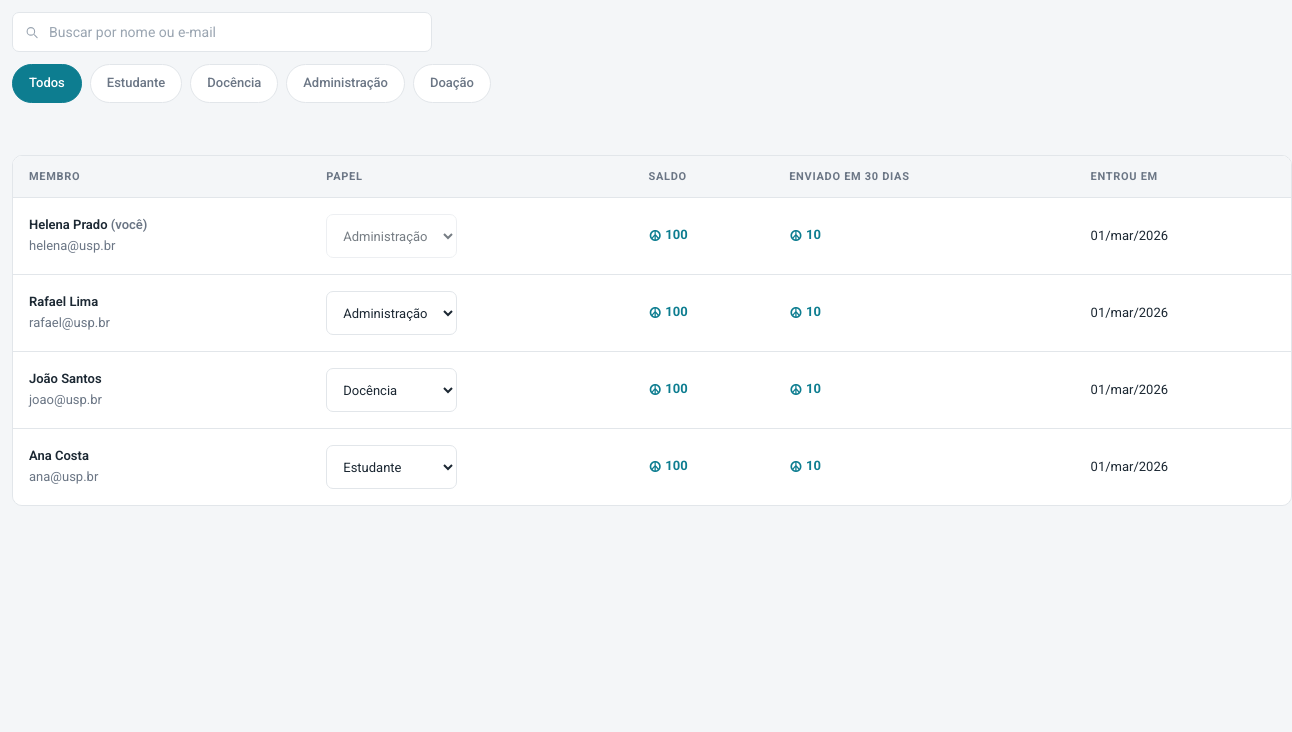
Test: UserRoleManager › finds a member by name without accents
This screenshot has width=1292, height=732.
In the search field labelled "Buscar por nome ou e-mail": (222,32) [12,12,432,52], type "joao"
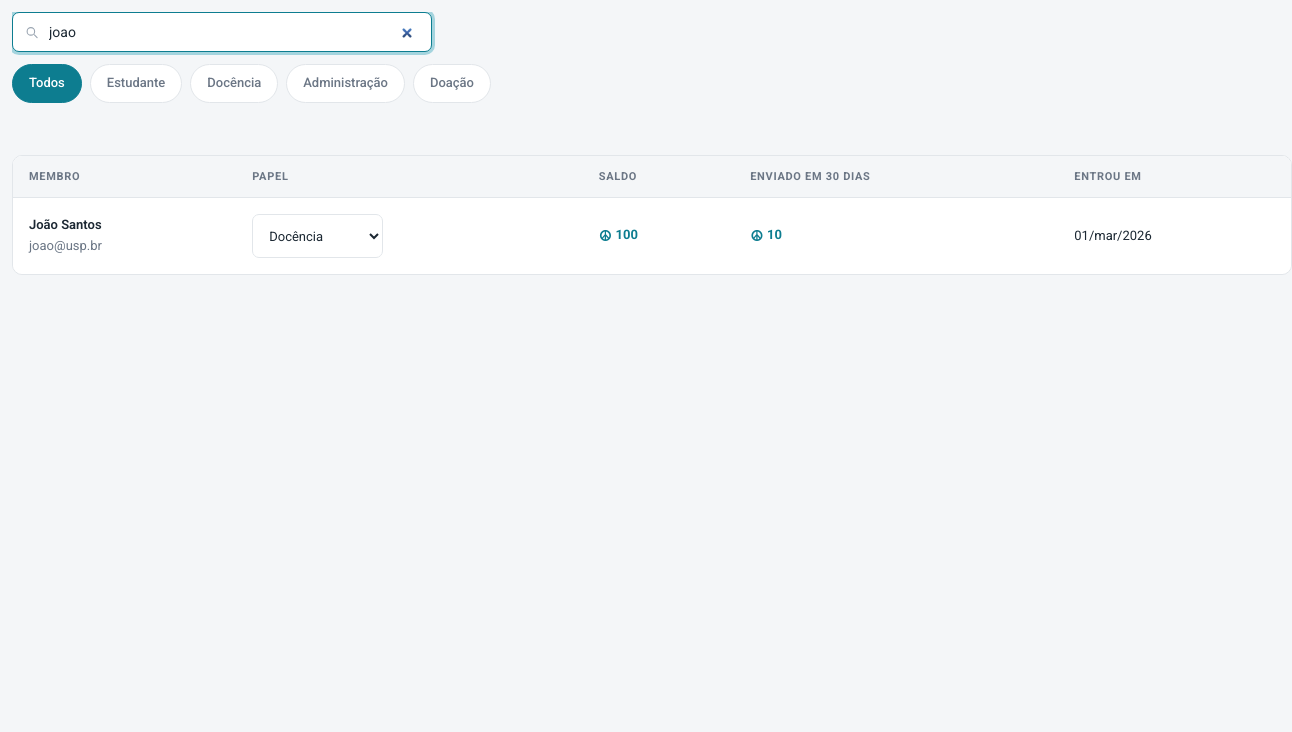
Expected: the text "João Santos" is shown, [29,218,102,232]
Now the text "Ana Costa" is gone
